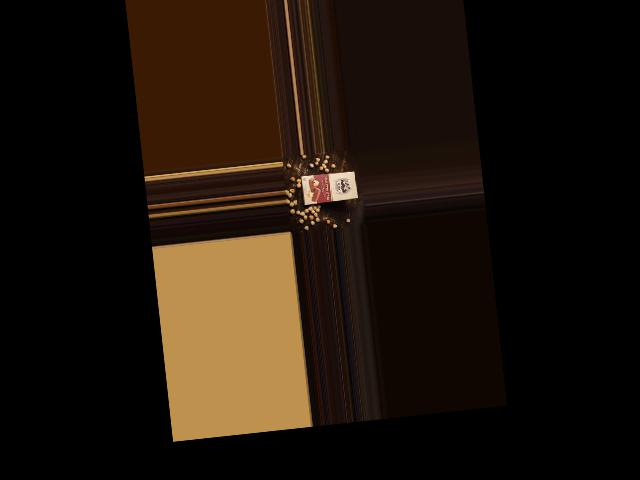chocolate: (299, 168, 359, 208)
